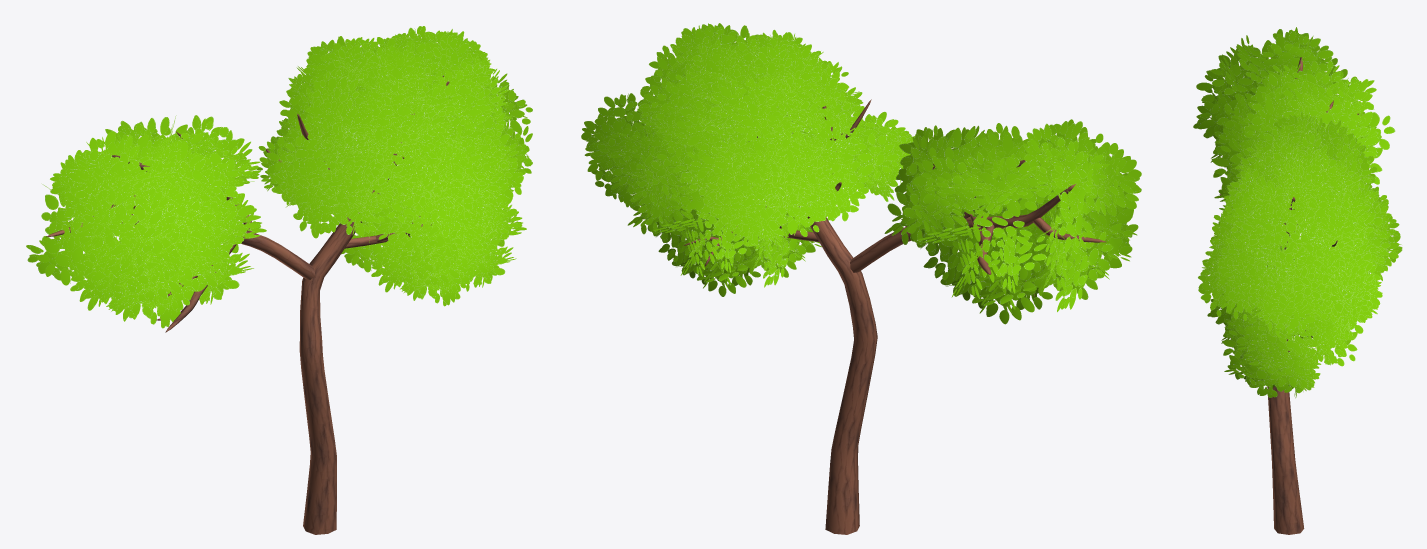
Rendered from tree_young_4.glb.
The picture shows the model from 3 angles, left to right: view 1: azimuth 30°, elevation 25°; view 2: azimuth 150°, elevation 25°; view 3: azimuth 270°, elevation 25°; orthographic projection. The views are drawn at different scales.
Visible parts, largest first — view 1: NormalTree_4; view 2: NormalTree_4; view 3: NormalTree_4.
Boxes of the visible parts, bbox=[...] form: NormalTree_4: bbox=[26, 26, 532, 534]; NormalTree_4: bbox=[581, 23, 1141, 534]; NormalTree_4: bbox=[1193, 27, 1402, 534].
Bounding box in the file's own units: 5.67 × 5.1 × 2.4.
2 materials, 2 textured.
